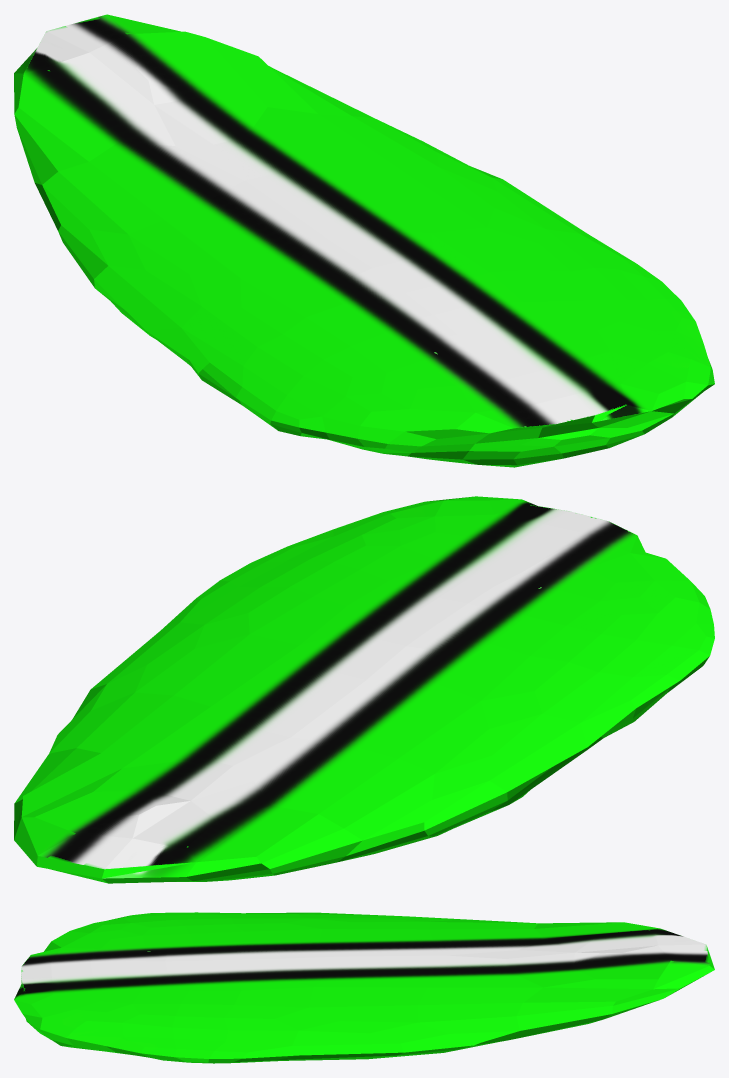
File: surfkinito.glb
The picture shows the model from 3 angles, top to bottom: view 1: azimuth 30°, elevation 25°; view 2: azimuth 150°, elevation 25°; view 3: azimuth 270°, elevation 25°; orthographic projection. The views are drawn at different scales.
Visible parts, largest first — view 1: surf; view 2: surf; view 3: surf.
Part boxes in pixels (box(x1,y1,x2,y2)): surf: box(14, 14, 714, 467); surf: box(14, 496, 714, 883); surf: box(14, 912, 714, 1063).
Bounding box in the file's own units: 0.9626 × 0.1912 × 1.95.
1 material, 1 textured.
